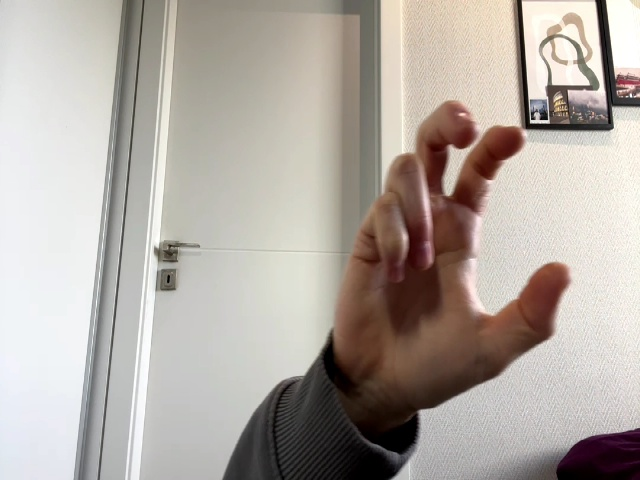CH: (332, 101, 573, 410)
